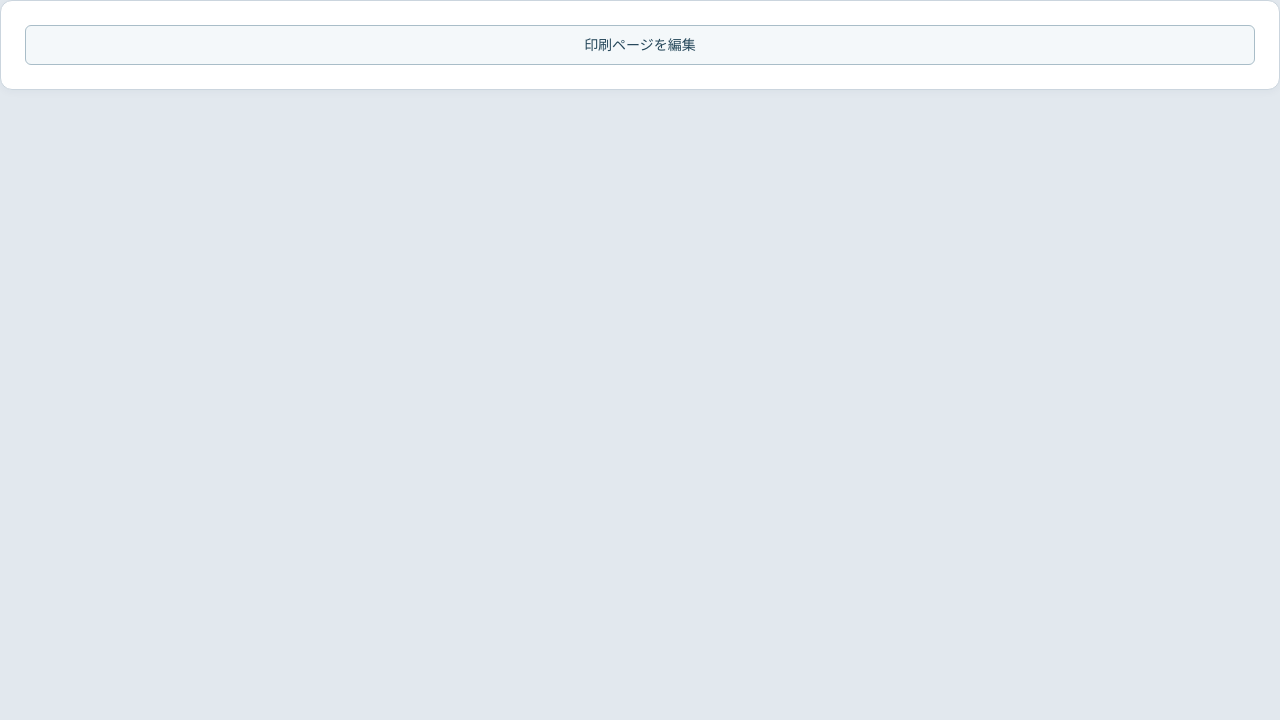
Test: 印刷ページ編集 › publishes the authoritative moved layout only after save succeeds
Later steps or results of the test are not shown.
Click the button "印刷ページを編集" at (640, 45), box [25,25,1255,65]
(page scrolled)
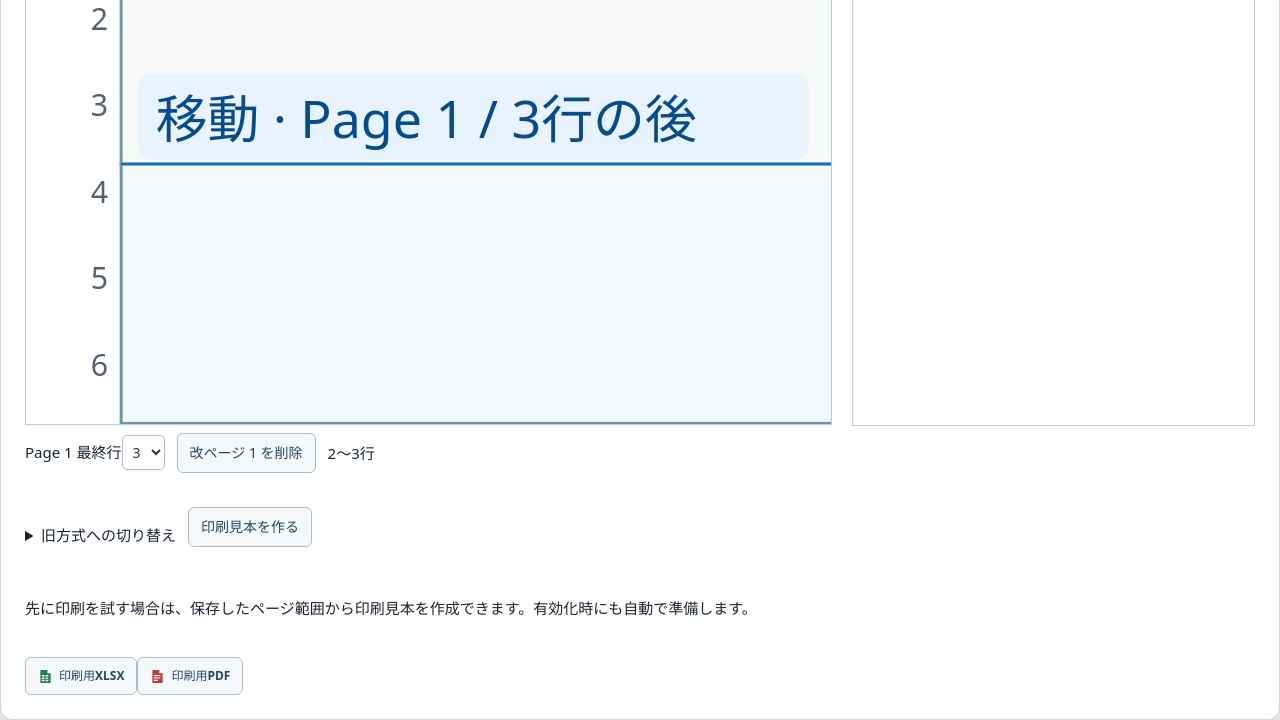
Select "2" in the dropdown labelled "Page 1 最終行" at (143, 453), box [122,435,165,470]
(page scrolled)
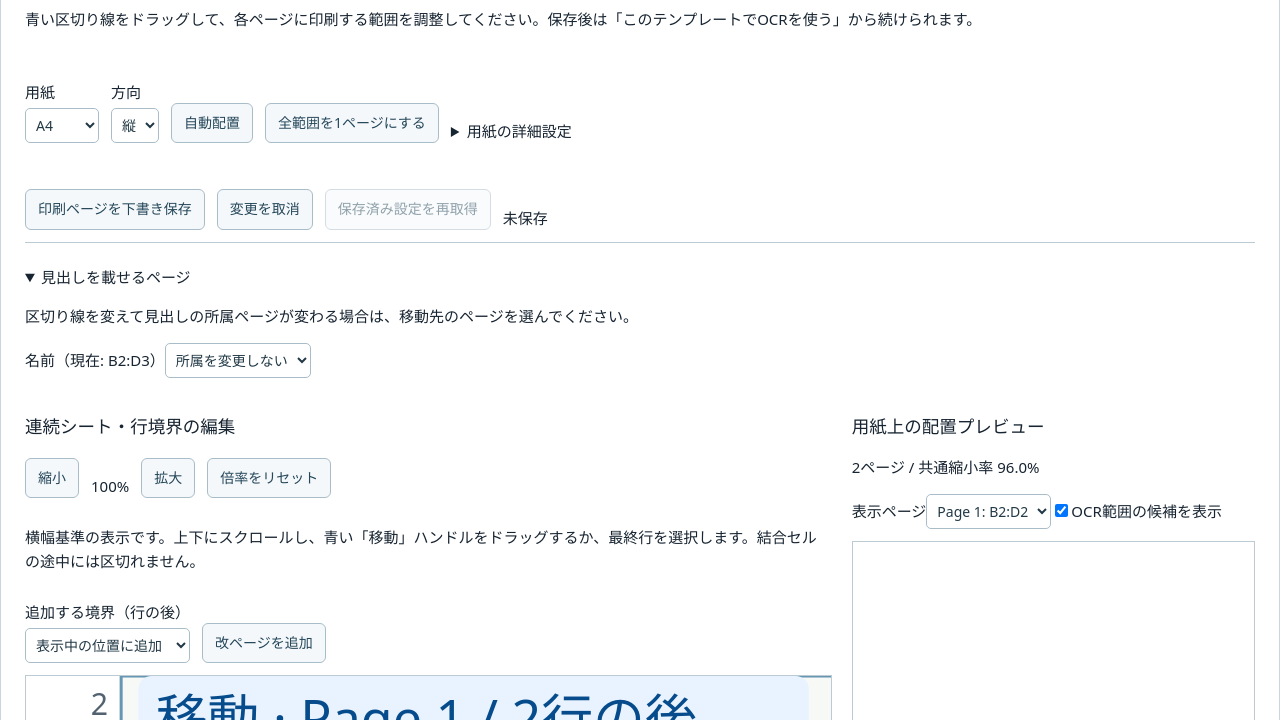
Check: the dropdown named "仮想見出し 名前 の移動先範囲" is enabled
Select "Page 1: B2:D2" in the dropdown named "仮想見出し 名前 の移動先範囲" at (238, 360), box [165,343,311,378]
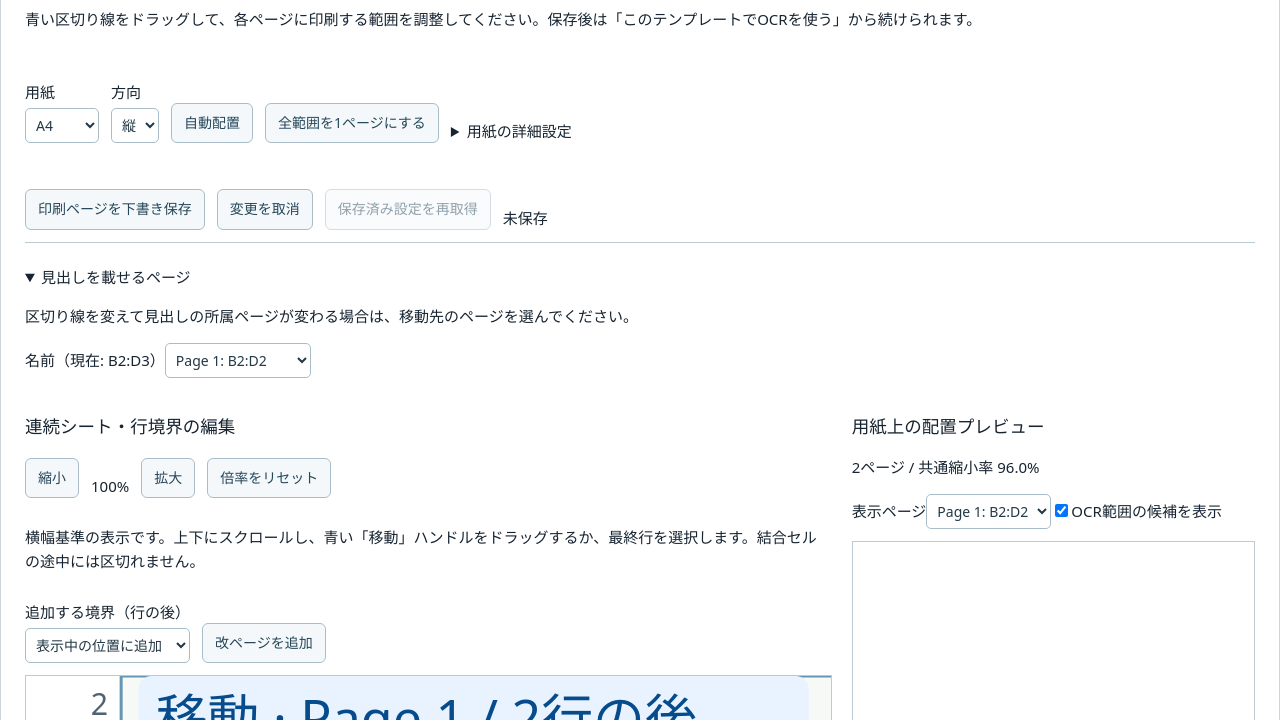
Check: the button "印刷ページを下書き保存" is enabled, box [25,189,205,230]
